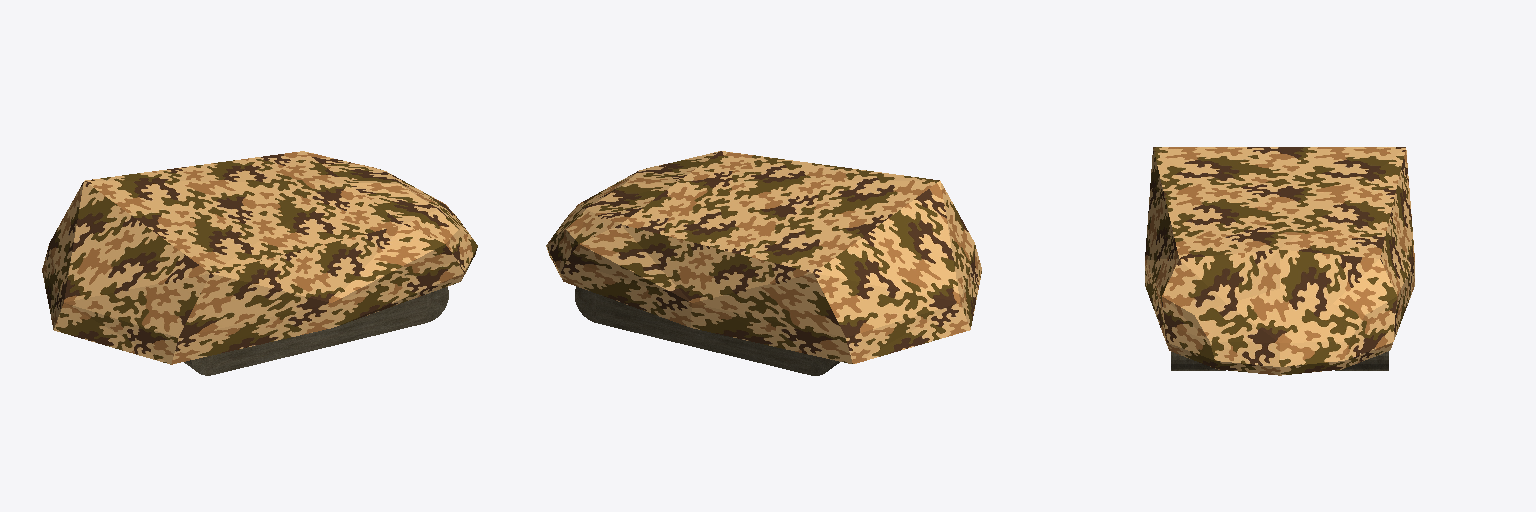
The picture shows the model from 3 angles: view 1: azimuth 30°, elevation 25°; view 2: azimuth 150°, elevation 25°; view 3: azimuth 270°, elevation 25°; orthographic projection.
Parts seen in each view (by area): view 1: Null chassis, Null kette2; view 2: Null chassis, Null kette1; view 3: Null chassis.
Boxes of the visible parts, x1,y1,x2,y2 form: Null chassis: [42, 151, 477, 364]; Null kette2: [184, 287, 448, 375]; Null chassis: [546, 151, 981, 363]; Null kette1: [575, 286, 839, 375]; Null chassis: [1145, 147, 1414, 375].
Bounding box in the file's own units: 1.85 × 0.4854 × 1.07.
2 materials, 2 textured.